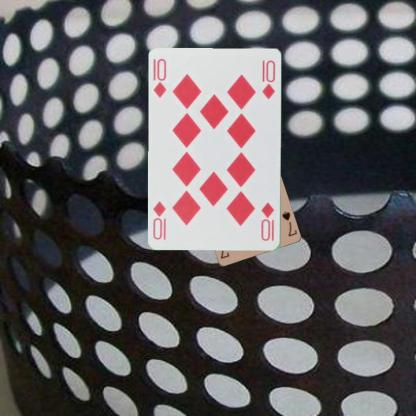10d: (258, 200, 276, 242), (150, 56, 167, 99)
7s: (279, 208, 298, 238)
